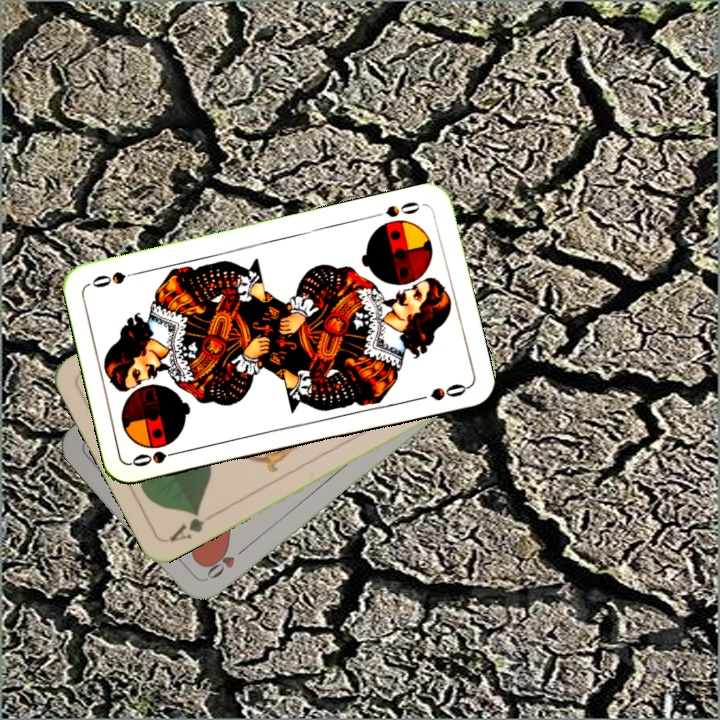GA: (165, 506, 208, 545)
HO: (200, 542, 250, 584)
SO: (128, 446, 187, 470), (381, 197, 427, 220)
